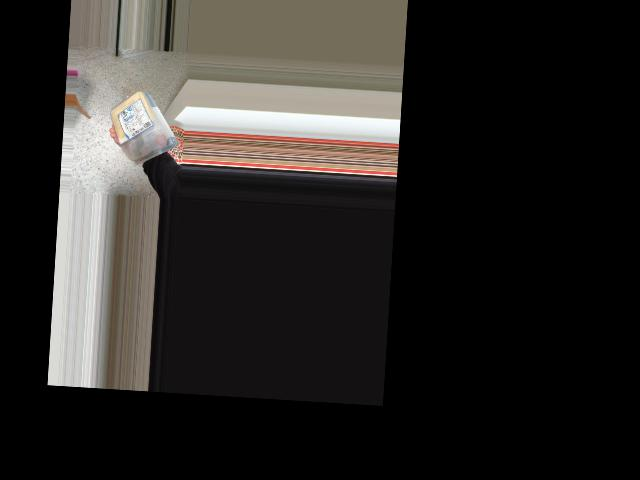cheese: (108, 90, 171, 159)
